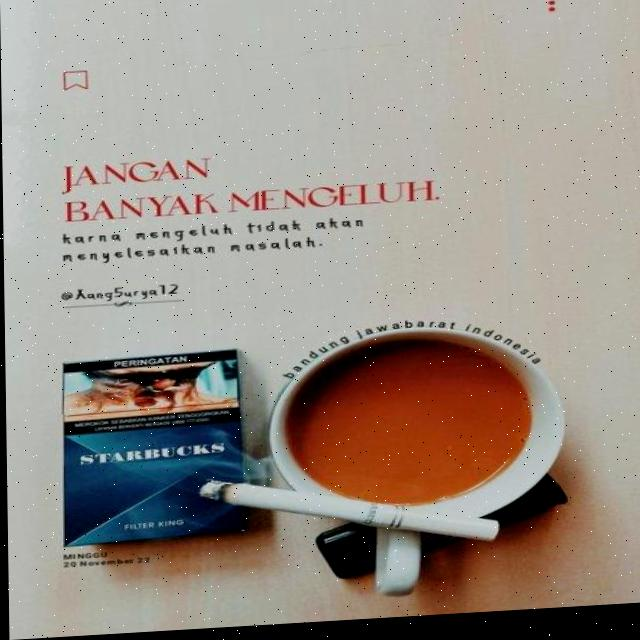cigarette: (198, 466, 497, 560)
